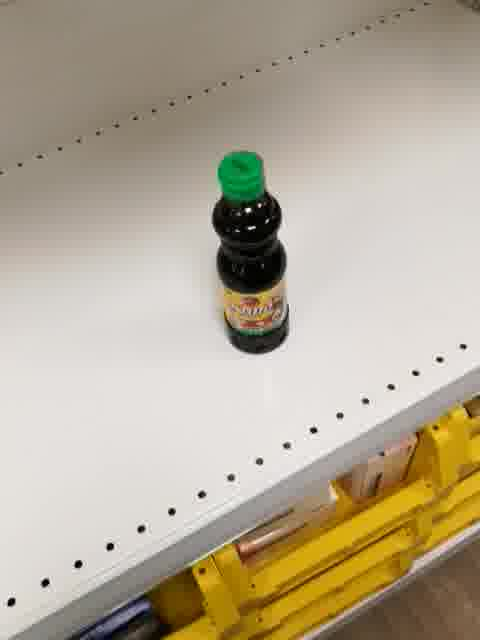cookingoil: (209, 148, 290, 356)
